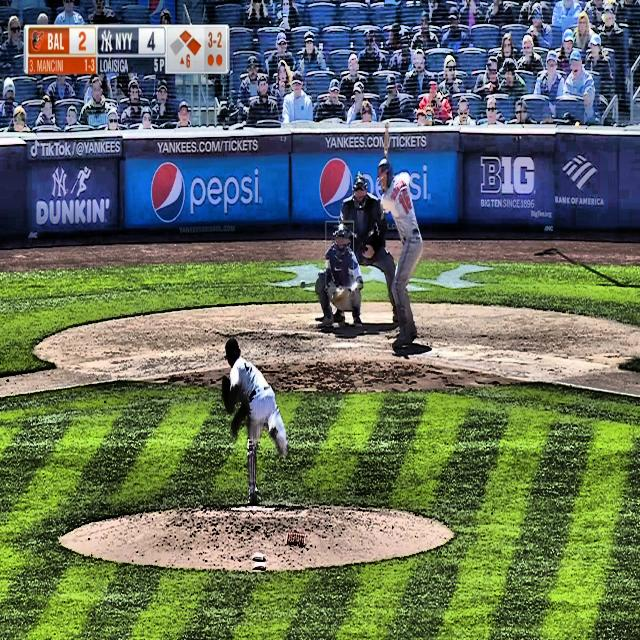baseball: (300, 279, 306, 289)
